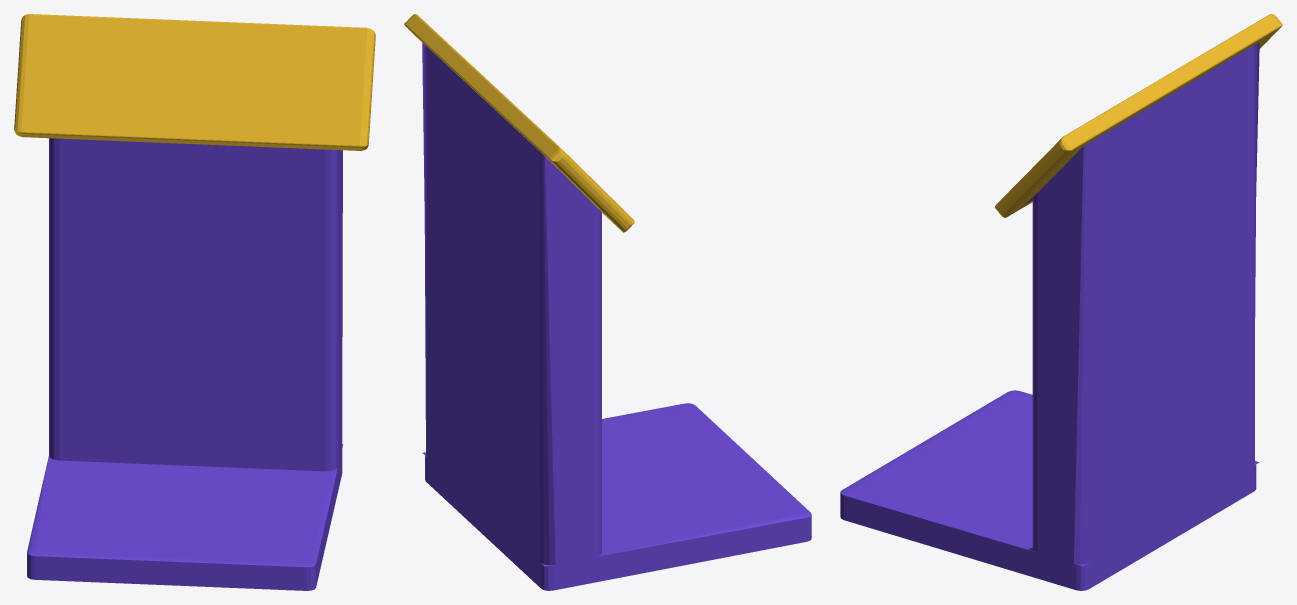
The model's file is Course.fbx.
The picture shows the model from 3 angles, left to right: view 1: azimuth 30°, elevation 25°; view 2: azimuth 150°, elevation 25°; view 3: azimuth 270°, elevation 25°; orthographic projection. The views are drawn at different scales.
Visible parts, largest first — view 1: Course; view 2: Course; view 3: Course.
Part boxes in pixels (x1=…): Course: x1=14, y1=14, x2=375, y2=590; Course: x1=404, y1=14, x2=811, y2=590; Course: x1=840, y1=14, x2=1282, y2=590.
Size of the model in its own units: 965 by 1101 by 951.
